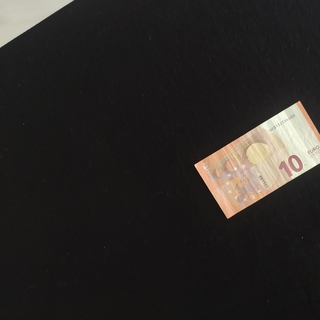10EUROBack: (194, 100, 320, 220)
